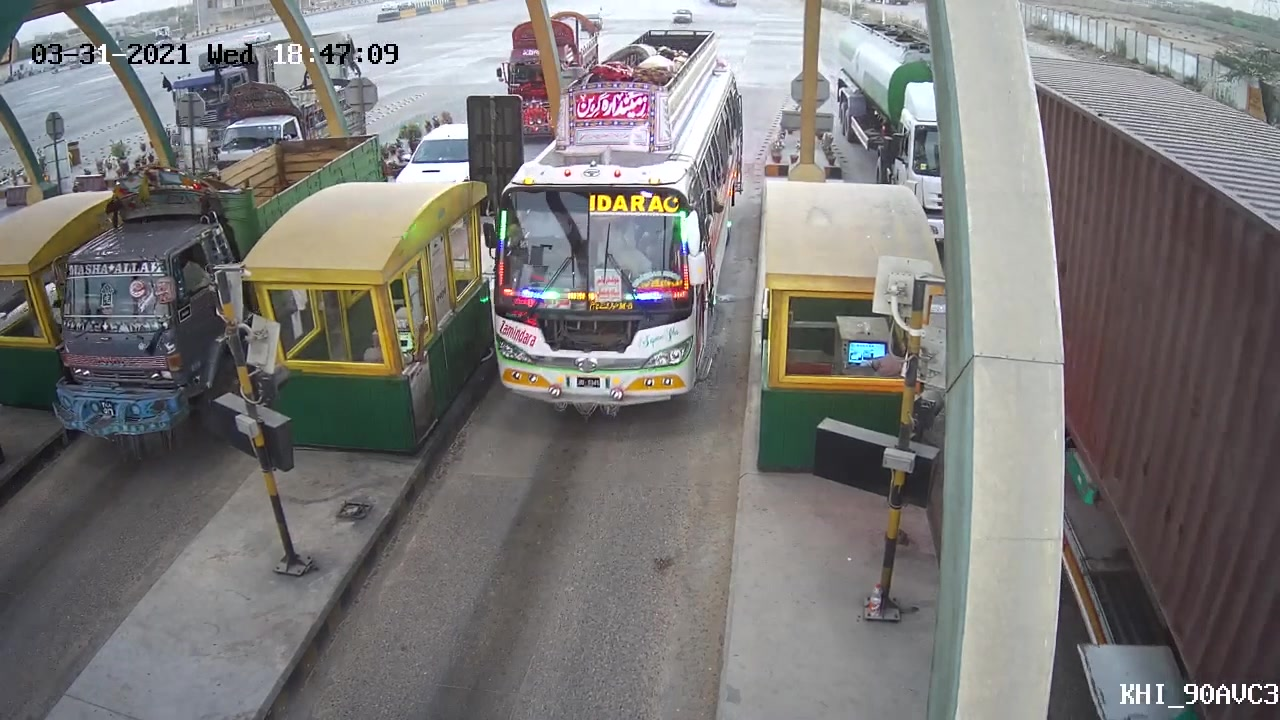F3: (467, 87, 742, 424)
